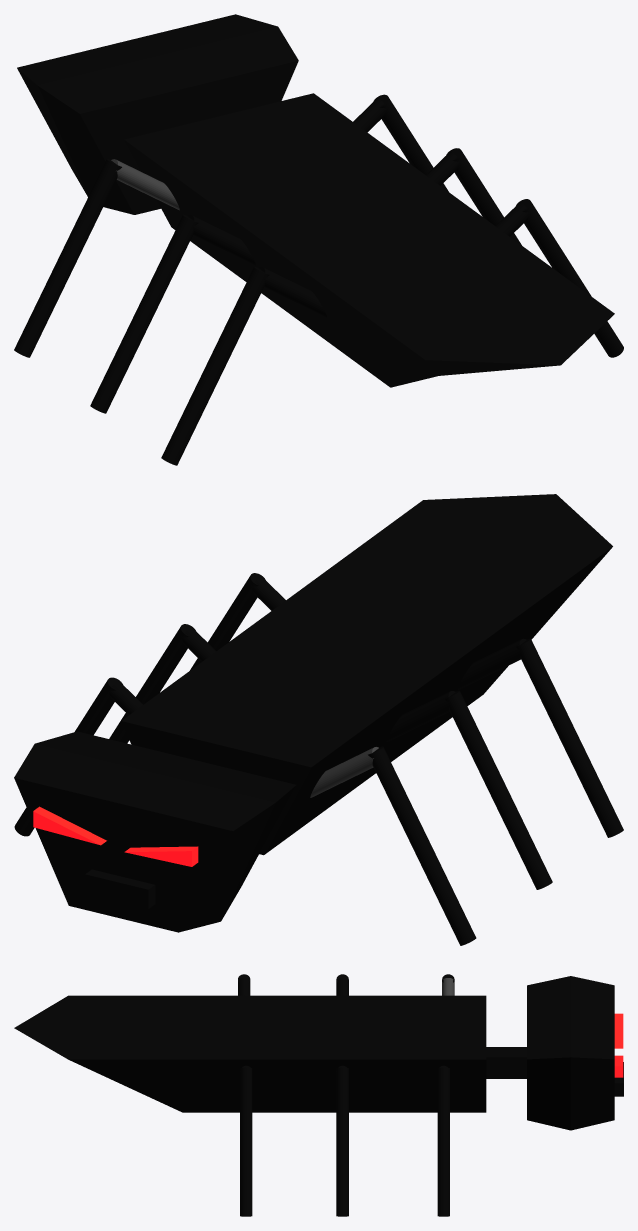
The model's file is spider.fbx.
3 views of the same model, one above another, from view 1: azimuth 30°, elevation 25°; view 2: azimuth 150°, elevation 25°; view 3: azimuth 270°, elevation 25° (orthographic). The views are drawn at different scales.
Visible parts, largest first — view 1: Cube, Cube.004, Cylinder, Cylinder.004, Cylinder.003, Cylinder.010, Cylinder.008, Cylinder.007, Cylinder.005, Cylinder.001, Cylinder.002; view 2: Cube, Cube.004, Cylinder, Cylinder.003, Cylinder.004, Cylinder.007, Cylinder.010, Cylinder.008, Cylinder.002, Cylinder.005, Cylinder.001; view 3: Cube, Cube.004, Cylinder.007, Cylinder.008, Cylinder.010, Cube.001.
Boxes of the visible parts, x1=… form: Cube: x1=124, y1=93, x2=614, y2=387; Cube.004: x1=17, y1=14, x2=298, y2=214; Cylinder: x1=14, y1=159, x2=121, y2=357; Cylinder.004: x1=90, y1=214, x2=198, y2=413; Cylinder.003: x1=161, y1=266, x2=269, y2=465; Cylinder.010: x1=516, y1=199, x2=623, y2=357; Cylinder.008: x1=373, y1=94, x2=448, y2=191; Cylinder.007: x1=446, y1=148, x2=521, y2=245; Cylinder.005: x1=187, y1=215, x2=255, y2=265; Cylinder.001: x1=111, y1=159, x2=179, y2=210; Cylinder.002: x1=258, y1=267, x2=326, y2=317; Cube: x1=121, y1=494, x2=612, y2=855; Cube.004: x1=14, y1=731, x2=296, y2=932; Cylinder: x1=368, y1=746, x2=476, y2=945; Cylinder.003: x1=515, y1=638, x2=623, y2=837; Cylinder.004: x1=444, y1=690, x2=552, y2=889; Cylinder.007: x1=109, y1=624, x2=195, y2=743; Cylinder.010: x1=190, y1=573, x2=265, y2=670; Cylinder.008: x1=14, y1=677, x2=122, y2=836; Cylinder.002: x1=458, y1=638, x2=526, y2=689; Cylinder.005: x1=386, y1=691, x2=455, y2=741; Cylinder.001: x1=310, y1=747, x2=378, y2=797; Cube: x1=14, y1=995, x2=486, y2=1112; Cube.004: x1=527, y1=976, x2=623, y2=1130; Cylinder.007: x1=336, y1=1067, x2=348, y2=1216; Cylinder.008: x1=437, y1=1067, x2=449, y2=1216; Cylinder.010: x1=240, y1=1067, x2=252, y2=1216; Cube.001: x1=486, y1=1047, x2=526, y2=1078.
Size of what is drawn, in the model's own units: 422 by 159 by 696.
